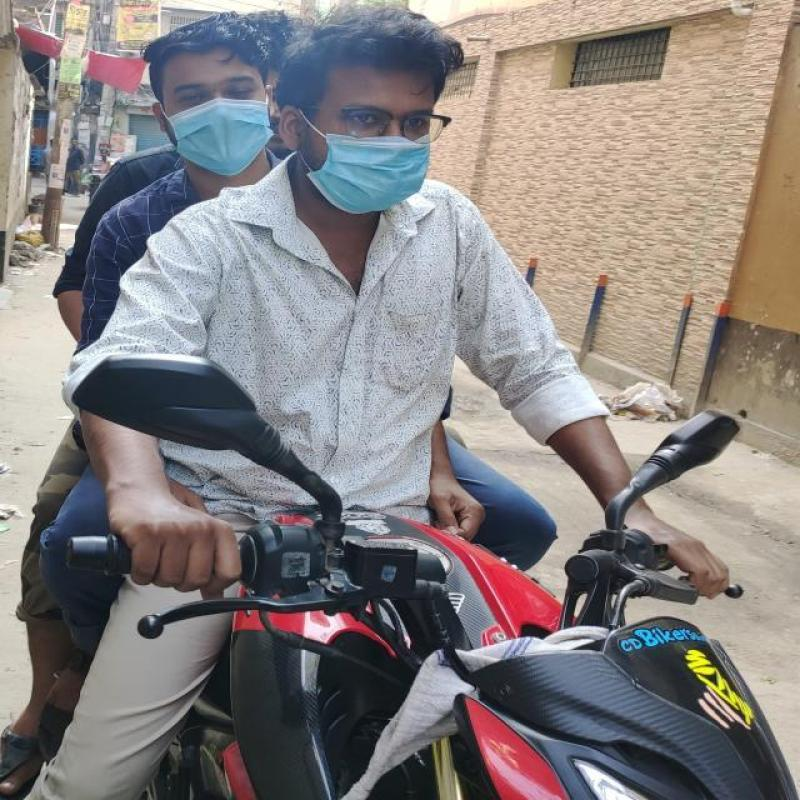nohelmet: (275, 0, 470, 218), (138, 28, 274, 184)
